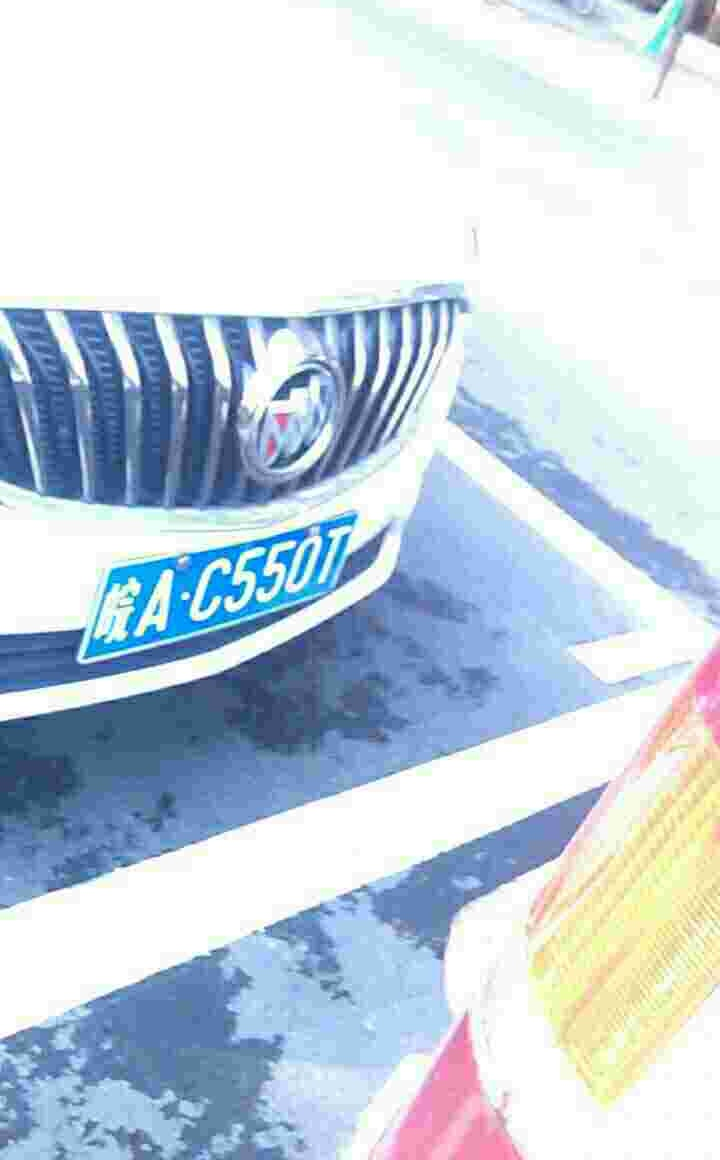license_plate: (93, 504, 378, 665)
